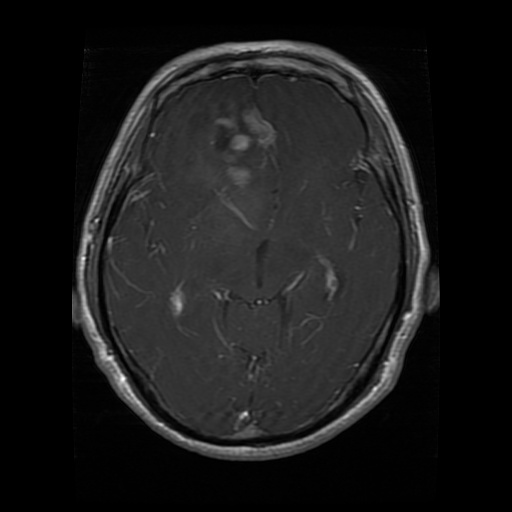glioma: (210, 108, 281, 229)
